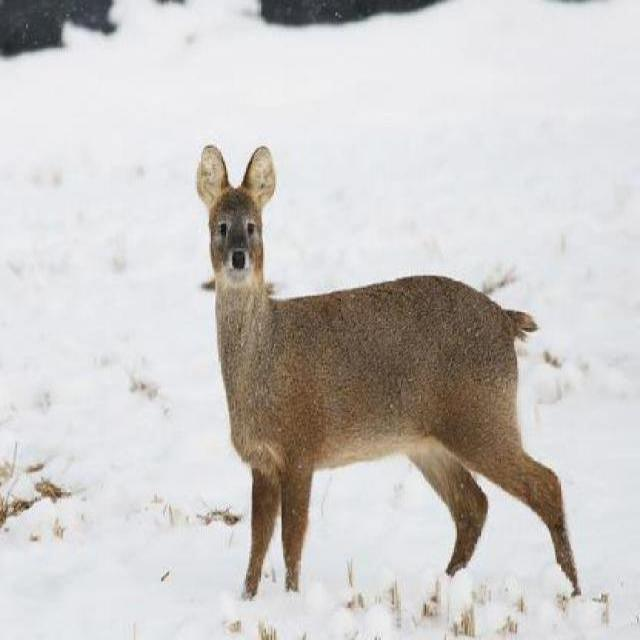deer: (188, 126, 586, 606)
